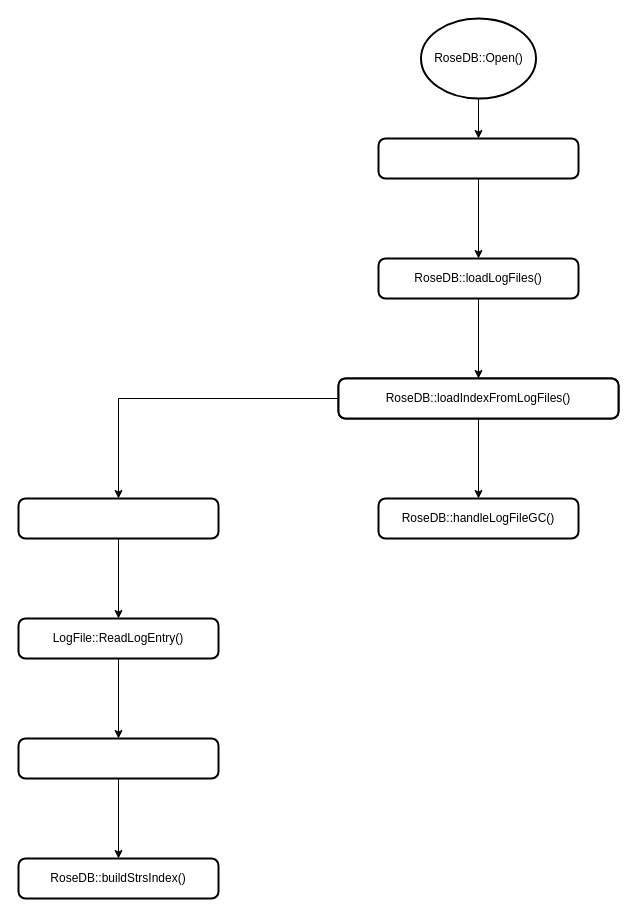
The diagram is 636 pixels wide and 916 high, and some of its shapes have lost their labels. Here are the shapes that lost their labels. From the top down, the centre of each, then its label:
At point (478, 158): "RoseDB::initDiscard()".
At point (118, 518): "iteratorAndHandle()".
At point (118, 758): "RoseDB::buildIndex()".
